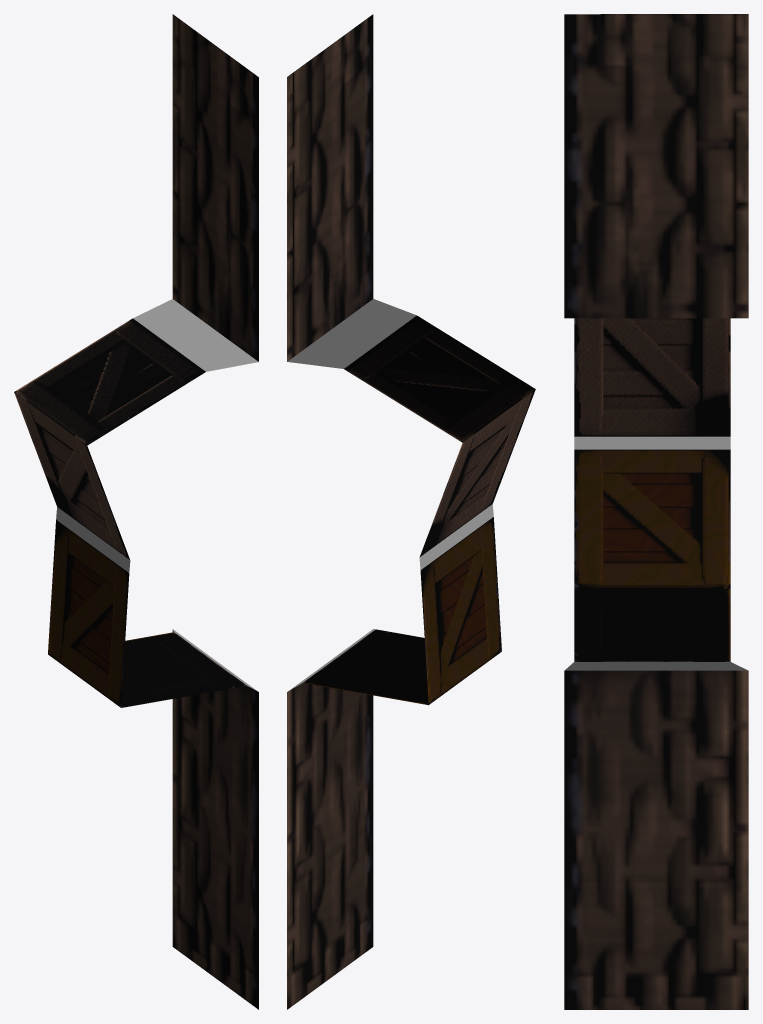
The model's file is collide_CrateWall.obj.
3 renders of one model, left to right at view 1: azimuth 30°, elevation 25°; view 2: azimuth 150°, elevation 25°; view 3: azimuth 270°, elevation 25°, orthographic. The views are drawn at different scales.
Parts seen in each view (by area): view 1: object 2, collide_CrateWall_Plane.018; view 2: object 2, collide_CrateWall_Plane.018; view 3: object 2, collide_CrateWall_Plane.018.
Part boxes in pixels (<box>): object 2: <box>14,14,258,1009</box>; collide_CrateWall_Plane.018: <box>56,299,258,691</box>; object 2: <box>287,14,535,1009</box>; collide_CrateWall_Plane.018: <box>287,299,493,690</box>; object 2: <box>564,14,748,1009</box>; collide_CrateWall_Plane.018: <box>565,436,747,670</box>.
Size of the model in its own units: 47.98 by 256 by 42.91.
